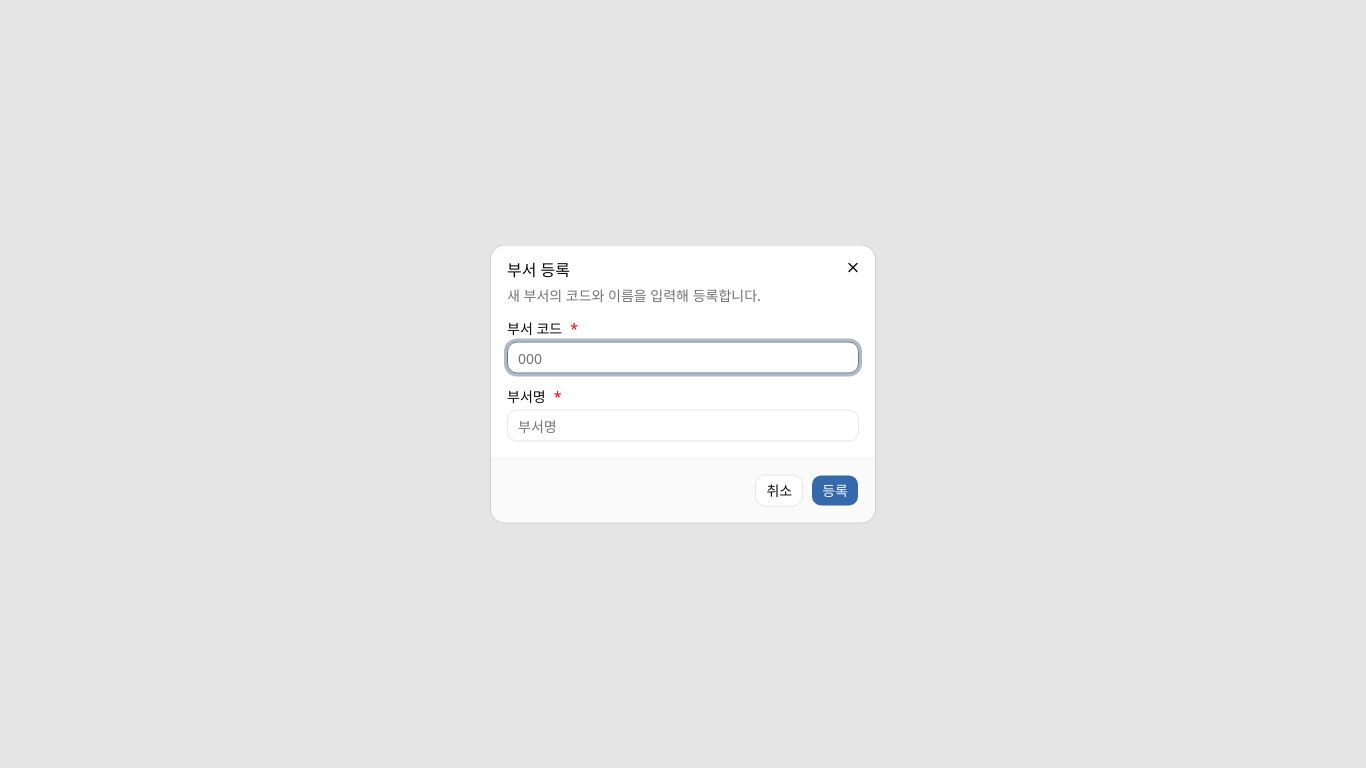
Test case: RegisterDepartmentDialog › 서버 검증 실패 시 다이얼로그가 닫히지 않고 root 에러가 표시된다(실패가 삼켜지지 않음)
The width and height of the screenshot is (1366, 768).
Type "123" into the field labelled "부서 코드 *" at {"x": 683, "y": 358}, box x1=507 y1=342 x2=859 y2=374
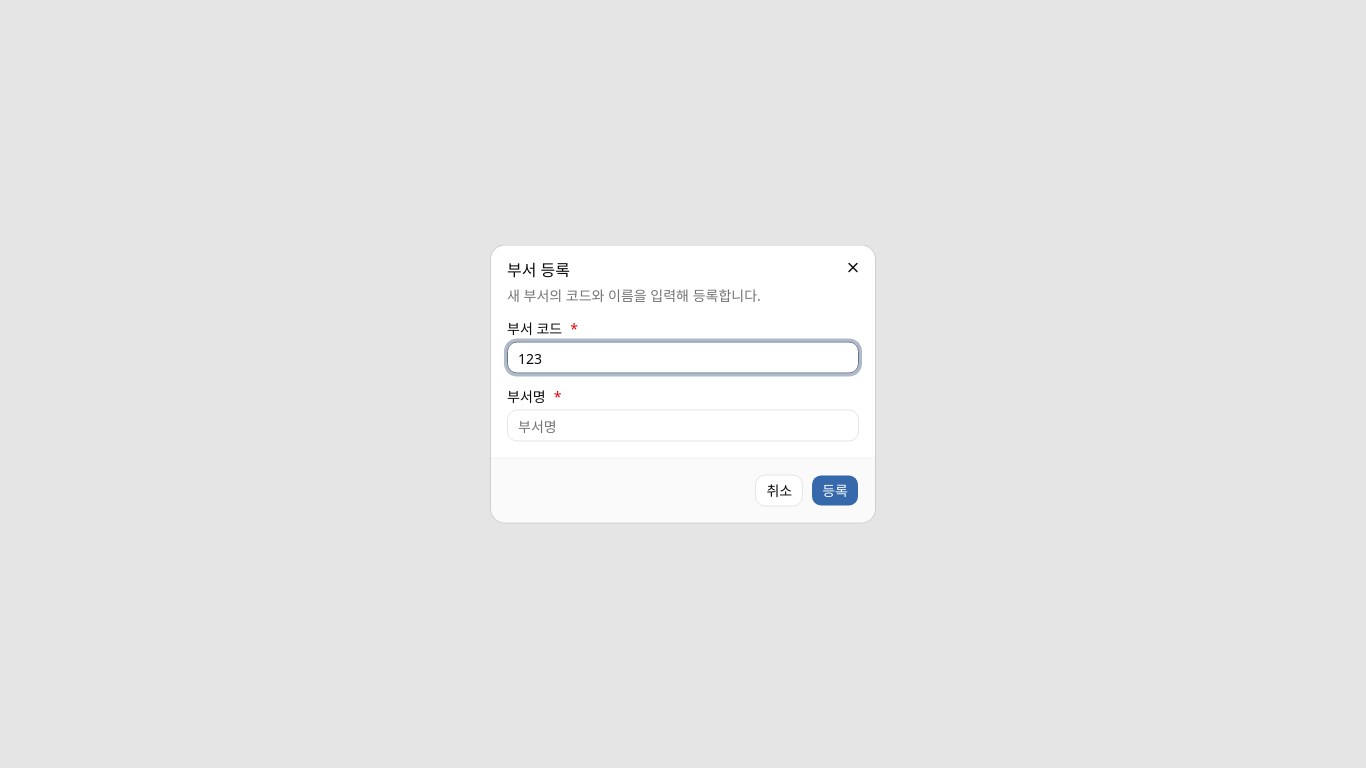
Type "개발팀" into the field labelled "부서명 *" at {"x": 683, "y": 426}, box x1=507 y1=410 x2=859 y2=442
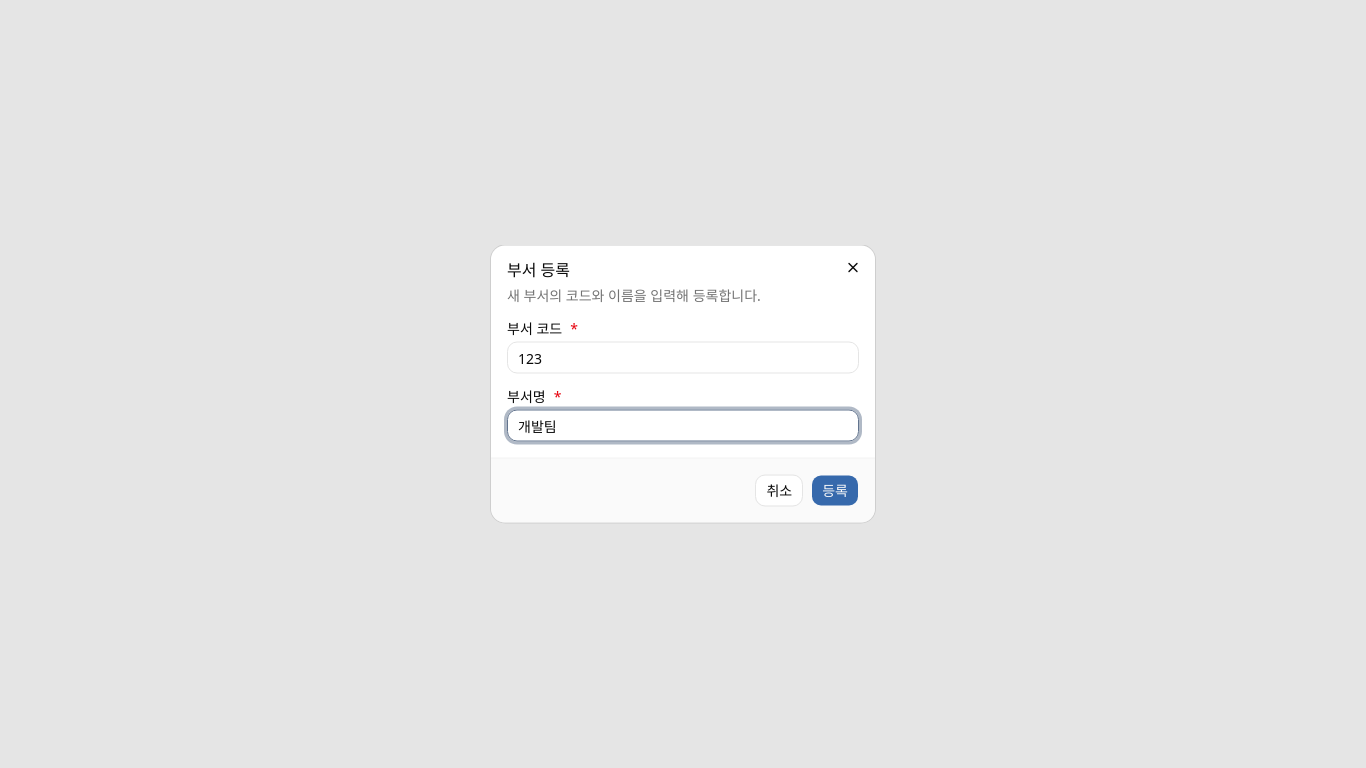
Click the button "등록" at {"x": 835, "y": 490}, box x1=811 y1=474 x2=859 y2=506
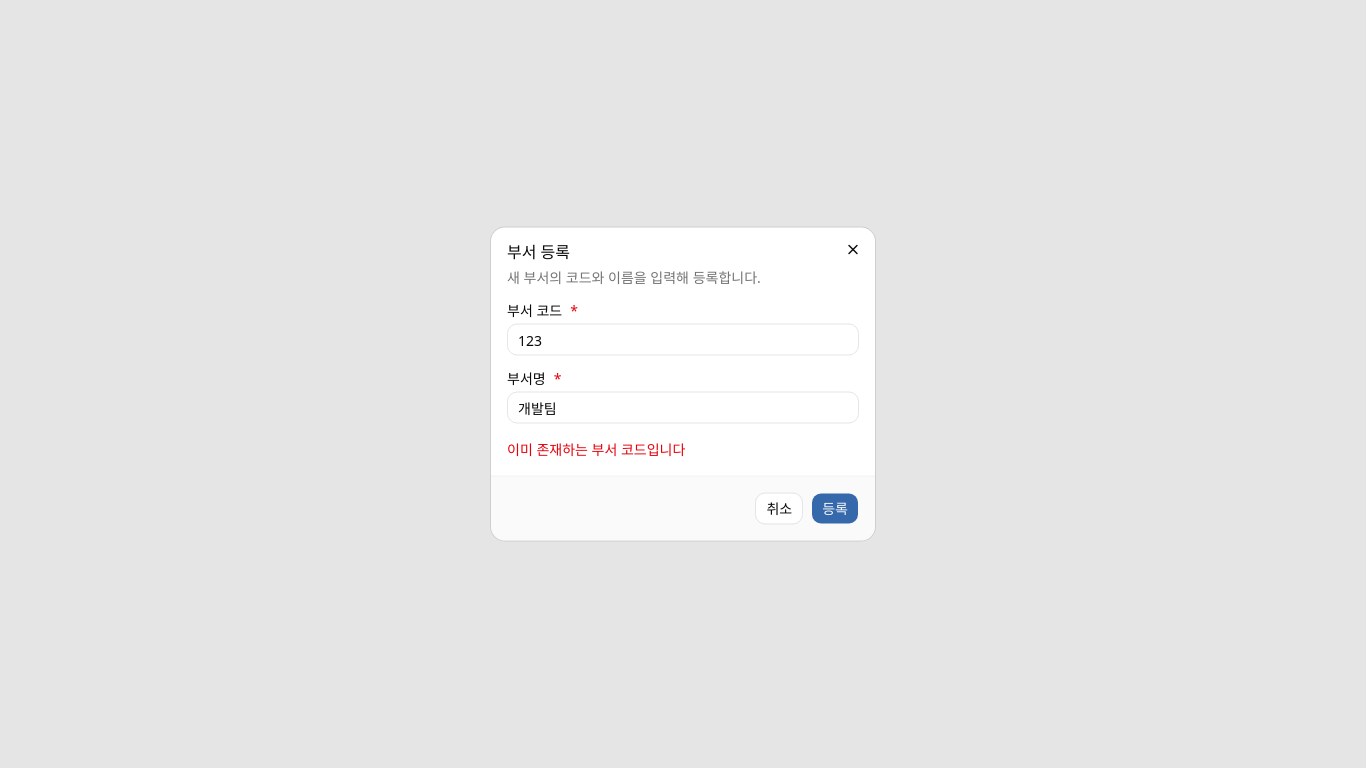
Expected: the text "이미 존재하는 부서 코드입니다" is shown, x1=507 y1=440 x2=685 y2=458
